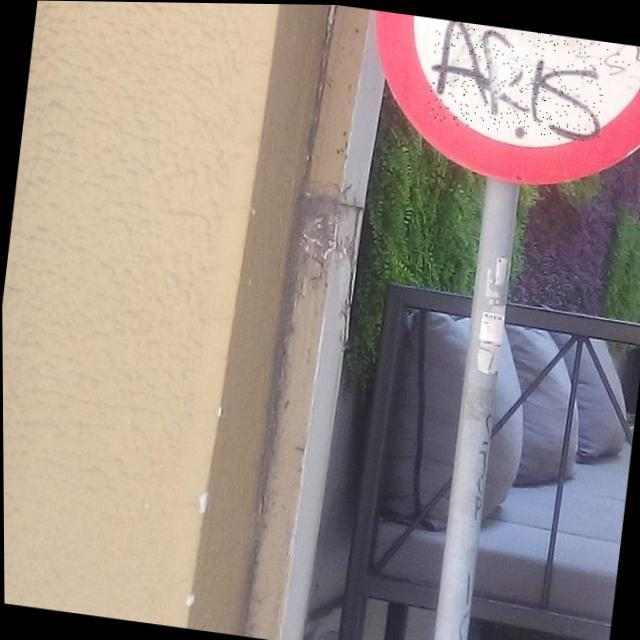-: (425, 17, 610, 142), (601, 39, 640, 76)
